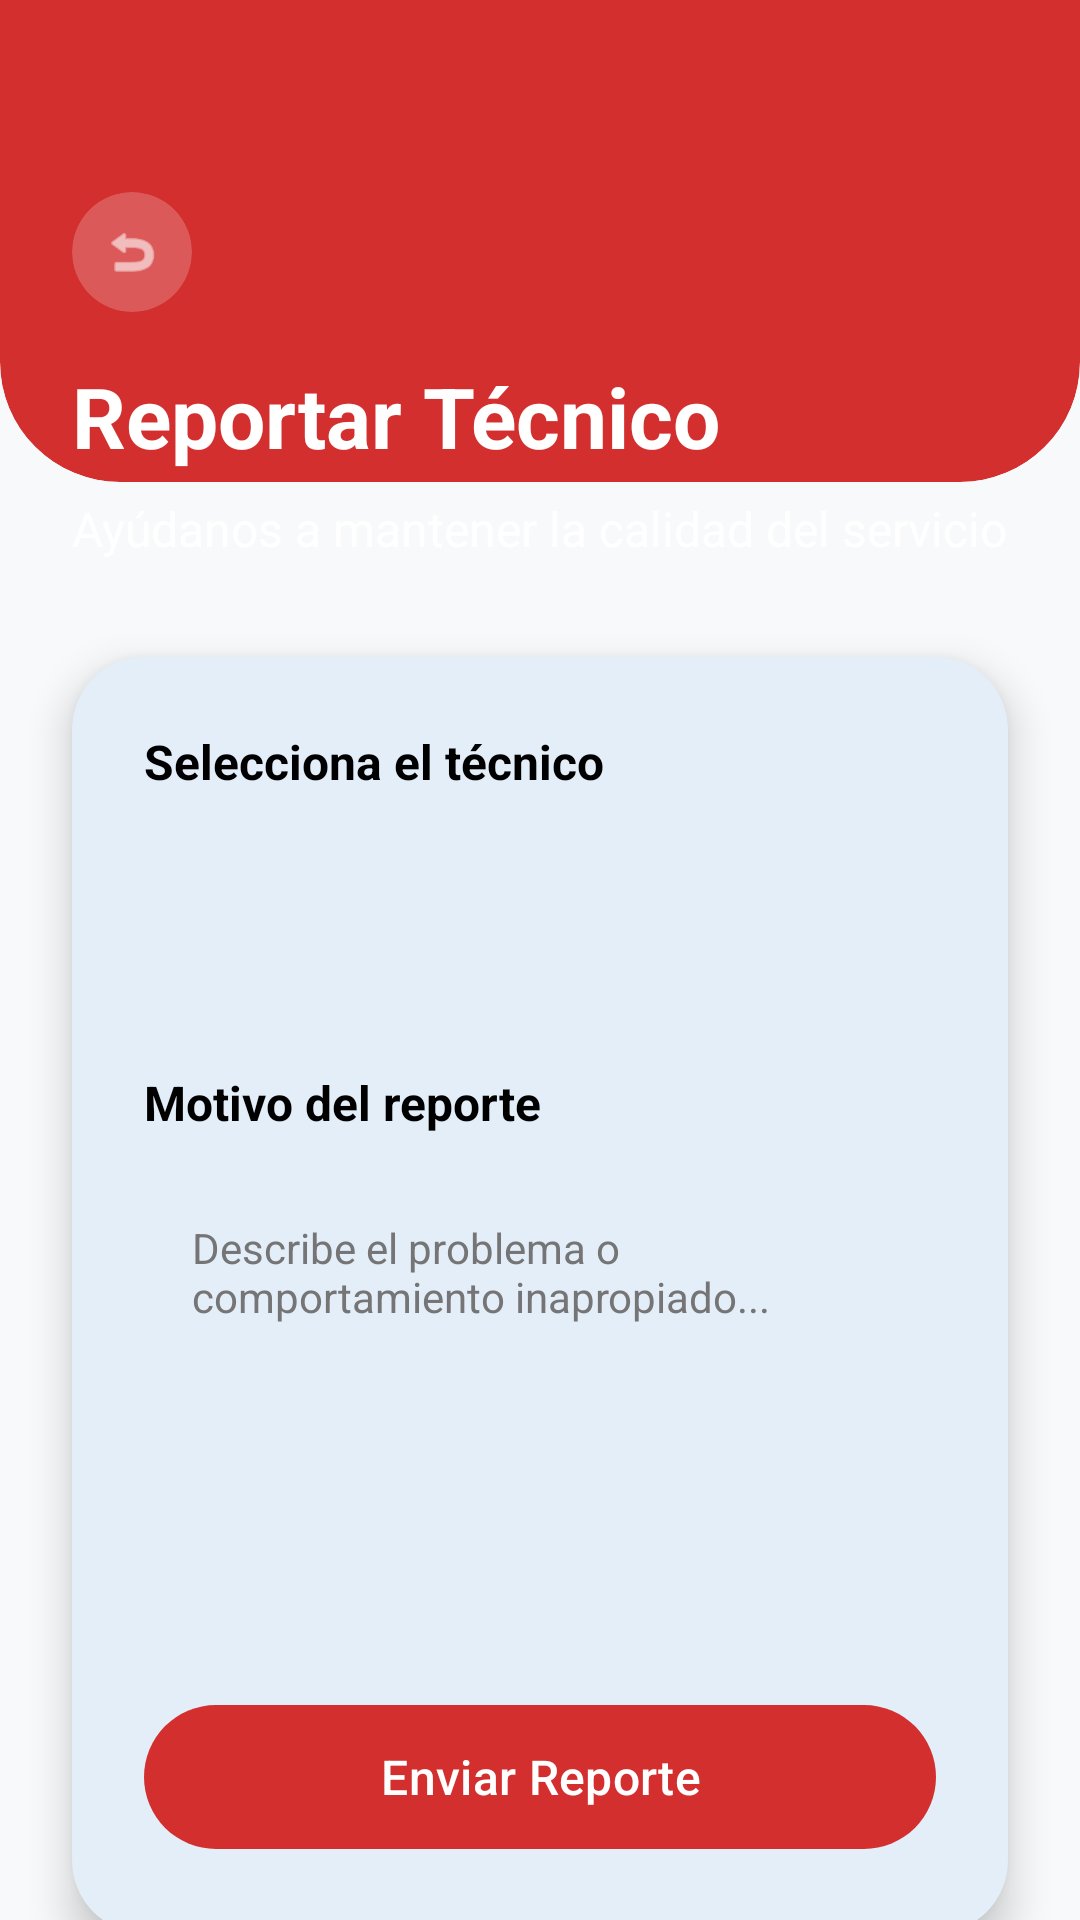

Icon bounding boxes for this 1080px x 1920px phone screenshot, format (x1, y1, x2, y2):
revert: (72, 192, 192, 312)
